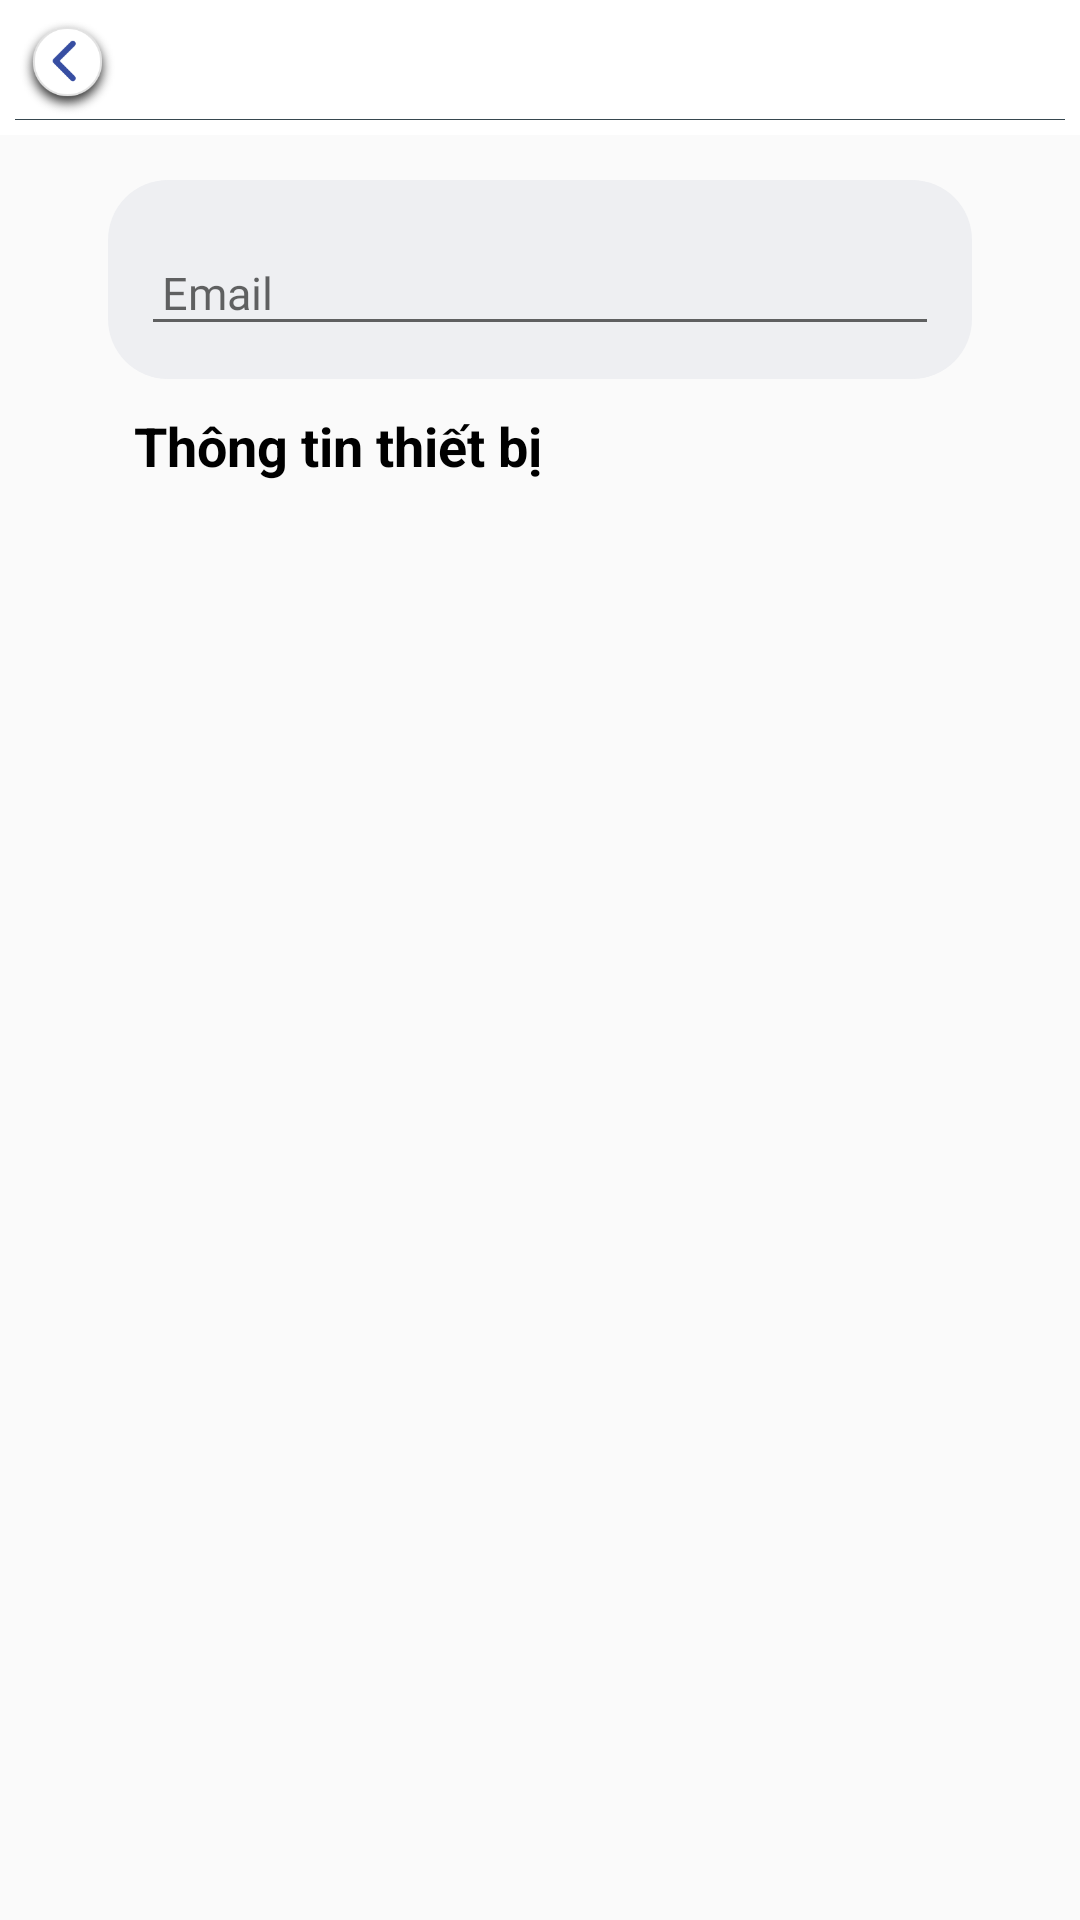

Where to tap for icons on this 1080×1920 app screen, as point (x, y):
back circle: point (67, 67)
